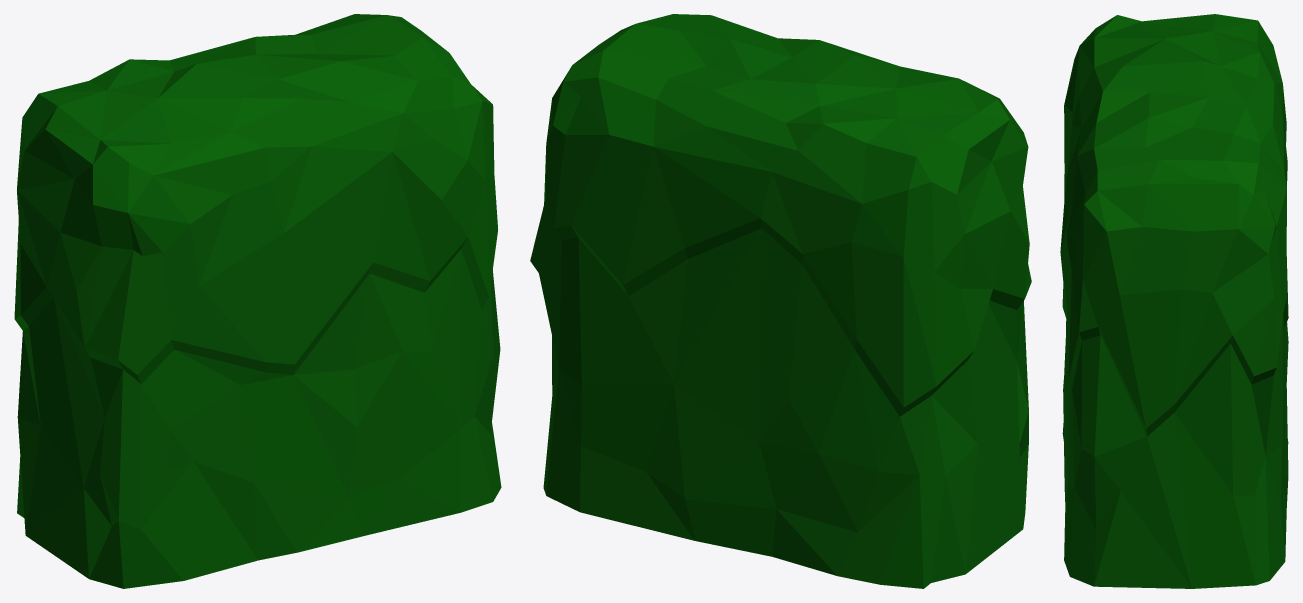
Rendered from wall_bush.fbx.
The picture shows the model from 3 angles, left to right: view 1: azimuth 30°, elevation 25°; view 2: azimuth 150°, elevation 25°; view 3: azimuth 270°, elevation 25°; orthographic projection. The views are drawn at different scales.
Parts seen in each view (by area): view 1: wall_bush; view 2: wall_bush; view 3: wall_bush.
Part boxes in pixels (x1,y1,x2,y2): wall_bush: [14, 14, 501, 588]; wall_bush: [530, 14, 1031, 588]; wall_bush: [1060, 14, 1288, 588].
Bounding box in the file's own units: 2 × 2 × 1.
